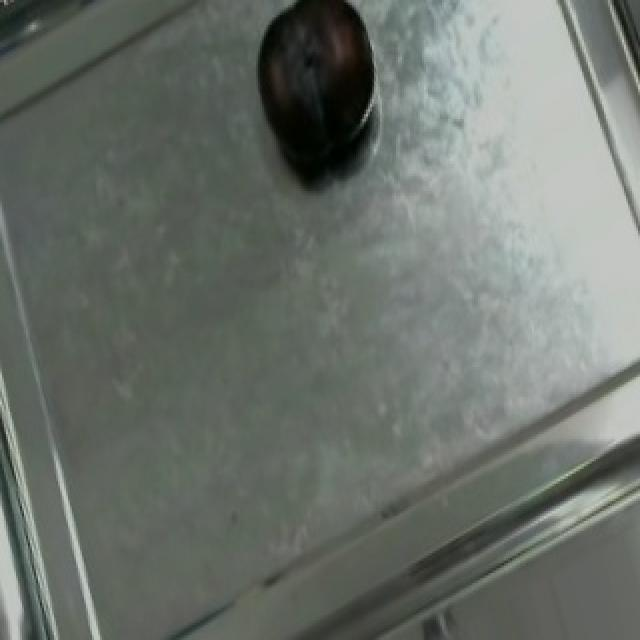Fruit: (234, 0, 398, 189)
